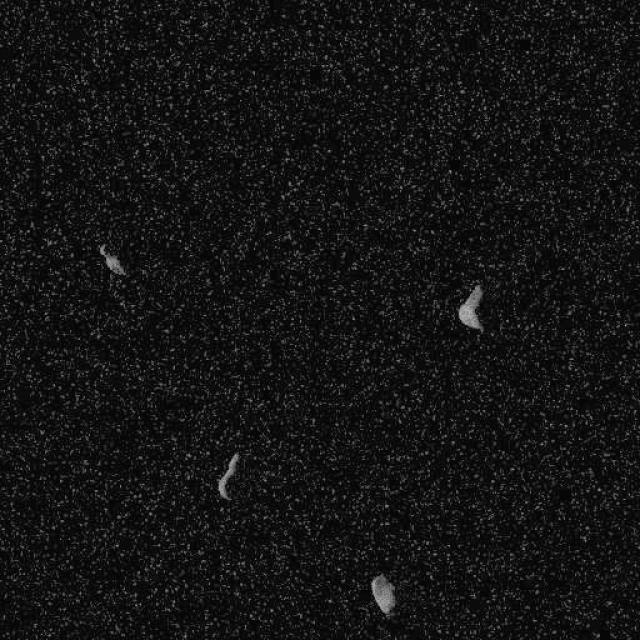D2: (456, 282, 485, 332), (216, 451, 240, 500), (370, 573, 396, 615), (98, 242, 126, 276)
